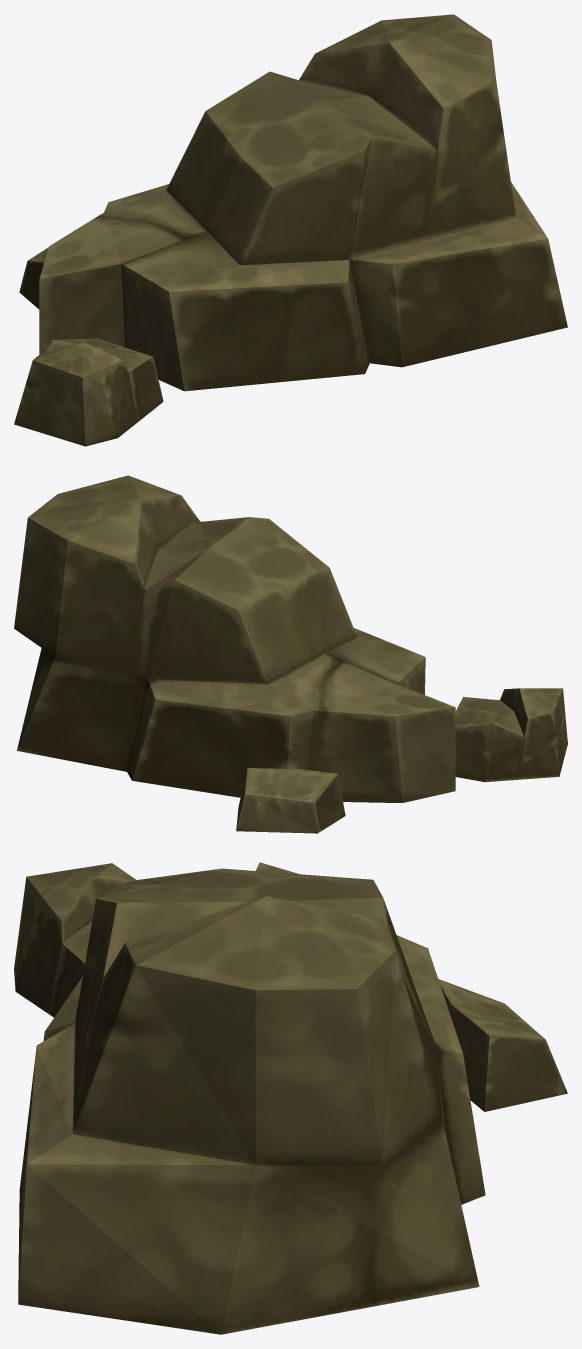
Rendered from rockwall_end_01.fbx.
3 renders of one model, top to bottom at view 1: azimuth 30°, elevation 25°; view 2: azimuth 150°, elevation 25°; view 3: azimuth 270°, elevation 25°, orthographic. The views are drawn at different scales.
Parts seen in each view (by area): view 1: obj0.133; view 2: obj0.133; view 3: obj0.133.
Part boxes in pixels (x1,y1,x2,y2): obj0.133: (14, 14, 567, 446); obj0.133: (14, 475, 567, 833); obj0.133: (14, 862, 567, 1334).
Bounding box in the file's own units: 4.12 × 1.71 × 2.49.
